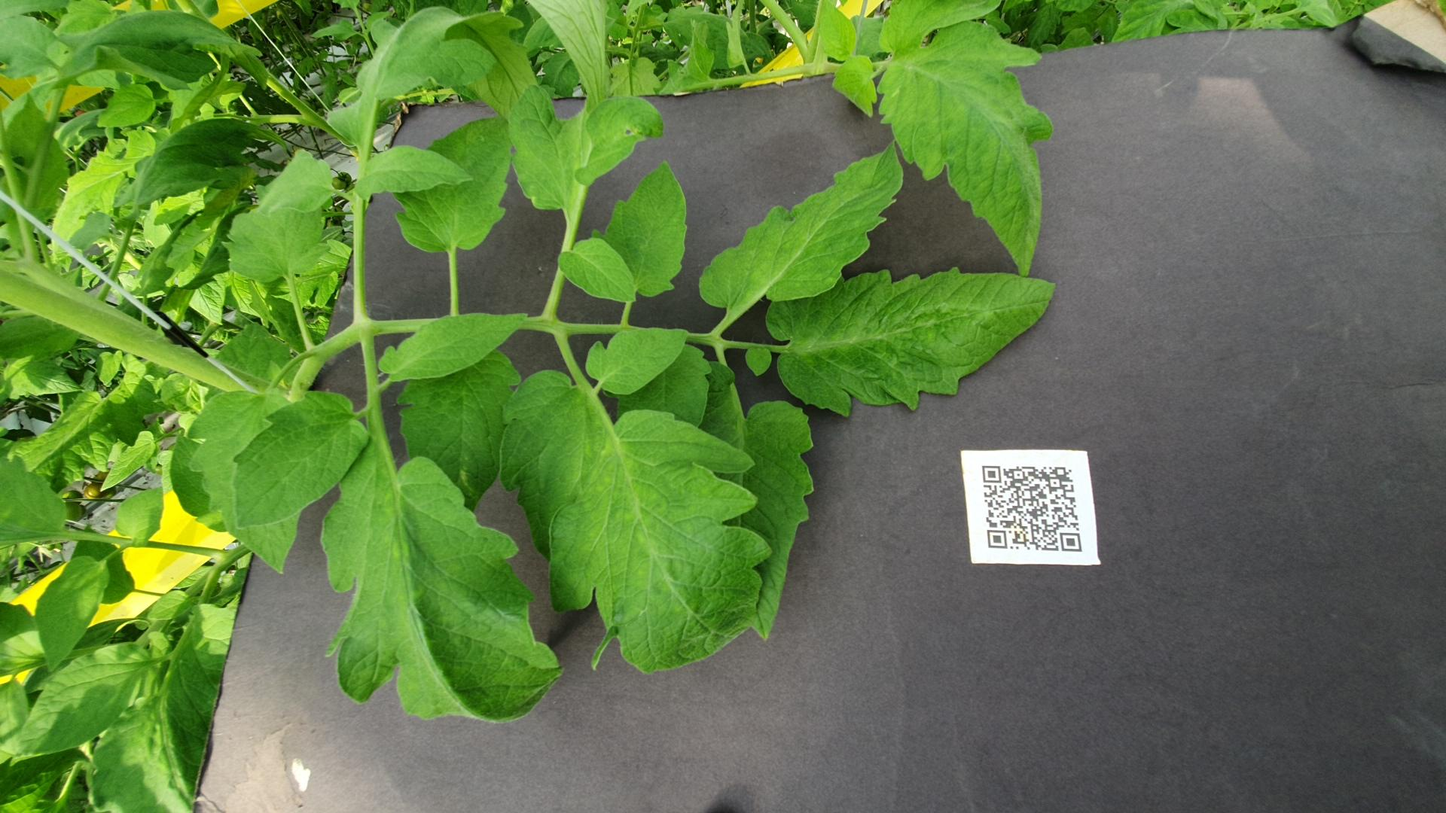Healthy: (244, 279, 789, 428), (155, 180, 645, 317), (951, 491, 1446, 593), (708, 431, 967, 594), (900, 391, 1199, 509), (1191, 183, 1436, 302), (302, 395, 732, 458), (537, 222, 826, 293), (507, 130, 752, 204), (83, 5, 304, 84), (994, 221, 1238, 288), (915, 332, 1167, 388), (763, 211, 899, 298), (254, 19, 458, 63), (740, 327, 867, 389), (1093, 199, 1188, 267), (1062, 144, 1183, 190), (902, 313, 1024, 357), (572, 54, 680, 88), (470, 63, 582, 93), (1214, 52, 1298, 88), (1341, 458, 1446, 482), (339, 82, 401, 109)
